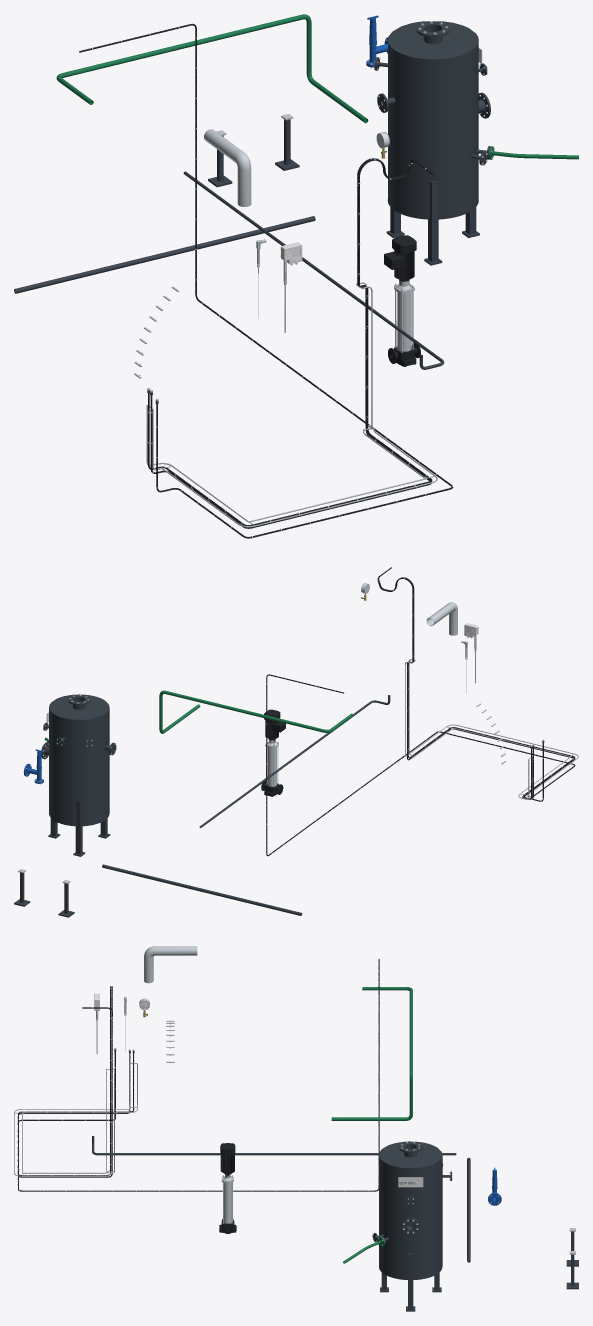
Rendered from s4000-3-DsGwB_5x.glb.
3 views of the same model, one above another, from view 1: azimuth 30°, elevation 25°; view 2: azimuth 150°, elevation 25°; view 3: azimuth 270°, elevation 25° (orthographic). The views are drawn at different scales.
Visible parts, largest first — view 1: separator_bdv60_5 / dark, mod_direct_drive_cable / black, to_direct / green, cables / zinc, wiring_pressure_switch_2 / black, bottom_discharge / dark, wiring_pressure_switch_1 / black, steam_rise / steel, tds_common / dark, pump_1 CAD solid 15, trap_support / dark, pump_1 CAD solid 2; view 2: separator_bdv60_5 / dark, mod_direct_drive_cable / black, cables / zinc, to_direct / green, bottom_discharge / dark, wiring_pressure_switch_1 / black, wiring_pressure_switch_2 / black, tds_common / dark, steam_rise / steel; view 3: separator_bdv60_5 / dark, mod_direct_drive_cable / black, cables / zinc, to_direct / green, tds_common / dark, wiring_pressure_switch_2 / black, steam_rise / steel, wiring_pressure_switch_1 / black.
Part boxes in pixels (x1,y1,x2,y2): separator_bdv60_5 / dark: (374,21,490,265); mod_direct_drive_cable / black: (79,23,452,538); to_direct / green: (56,14,368,123); cables / zinc: (146,282,437,527); wiring_pressure_switch_2 / black: (148,159,432,525); bottom_discharge / dark: (14,216,315,293); wiring_pressure_switch_1 / black: (150,158,433,528); steam_rise / steel: (204,129,251,206); tds_common / dark: (183,171,444,369); pump_1 CAD solid 15: (384,235,416,280); trap_support / dark: (208,119,299,187); pump_1 CAD solid 2: (397,292,411,351); separator_bdv60_5 / dark: (41,694,116,856); mod_direct_drive_cable / black: (266,674,575,856); cables / zinc: (405,659,578,799); to_direct / green: (159,690,343,733); bottom_discharge / dark: (102,864,302,915); wiring_pressure_switch_1 / black: (377,567,575,799); wiring_pressure_switch_2 / black: (378,574,575,799); tds_common / dark: (199,695,390,827); steam_rise / steel: (426,602,457,635); separator_bdv60_5 / dark: (372,1141,451,1311); mod_direct_drive_cable / black: (17,959,379,1191); cables / zinc: (14,1063,137,1176); to_direct / green: (331,987,412,1120); tds_common / dark: (92,1136,456,1155); wiring_pressure_switch_2 / black: (17,986,134,1175); steam_rise / steel: (144,946,197,983); wiring_pressure_switch_1 / black: (17,986,130,1177).
Bounding box in the file's own units: 5.7 × 2.95 × 6.8.
